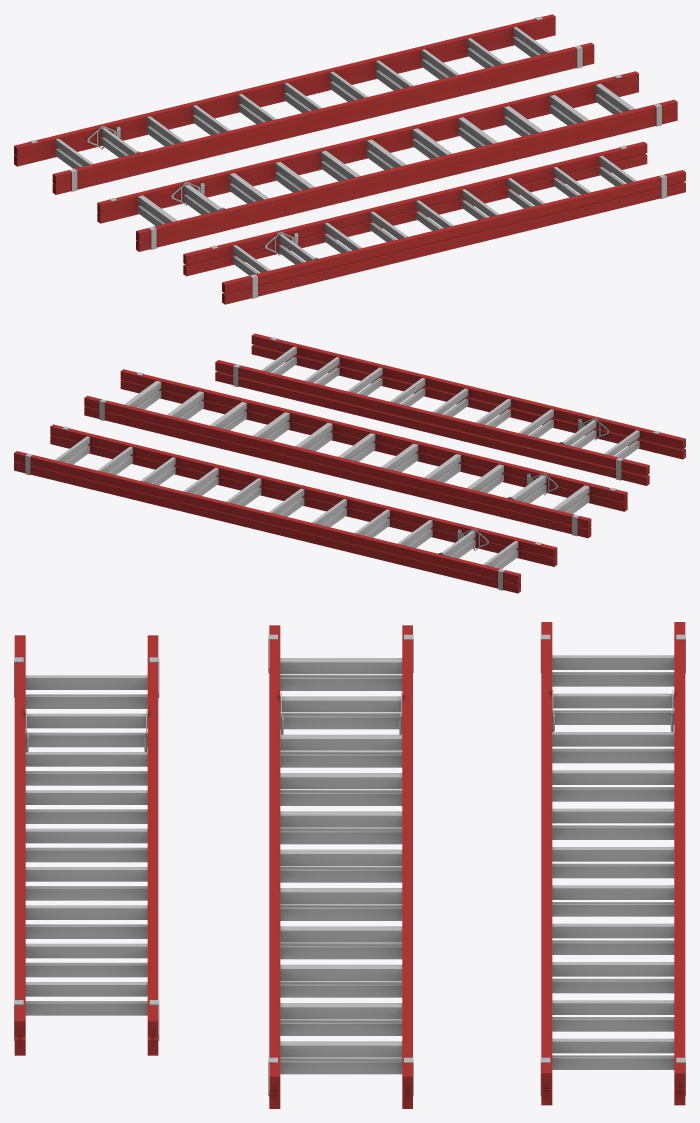
Rendered from ladder.fbx.
3 renders of one model, top to bottom at view 1: azimuth 30°, elevation 25°; view 2: azimuth 150°, elevation 25°; view 3: azimuth 270°, elevation 25°, orthographic. The views are drawn at different scales.
Parts seen in each view (by area): view 1: ladder_2, ladder_1, ladder_3; view 2: ladder_2, ladder_1, ladder_3; view 3: ladder_2, ladder_1, ladder_3.
Boxes of the visible parts, box(x1,y1,x2,y2) form: ladder_2: box(97, 71, 677, 251); ladder_1: box(14, 14, 594, 194); ladder_3: box(183, 141, 685, 304); ladder_2: box(84, 369, 627, 538); ladder_1: box(14, 424, 557, 593); ladder_3: box(215, 333, 685, 485); ladder_2: box(268, 625, 413, 1108); ladder_1: box(540, 622, 685, 1105); ladder_3: box(14, 635, 159, 1055).
Bounding box in the file's own units: 430 × 18.37 × 269.
